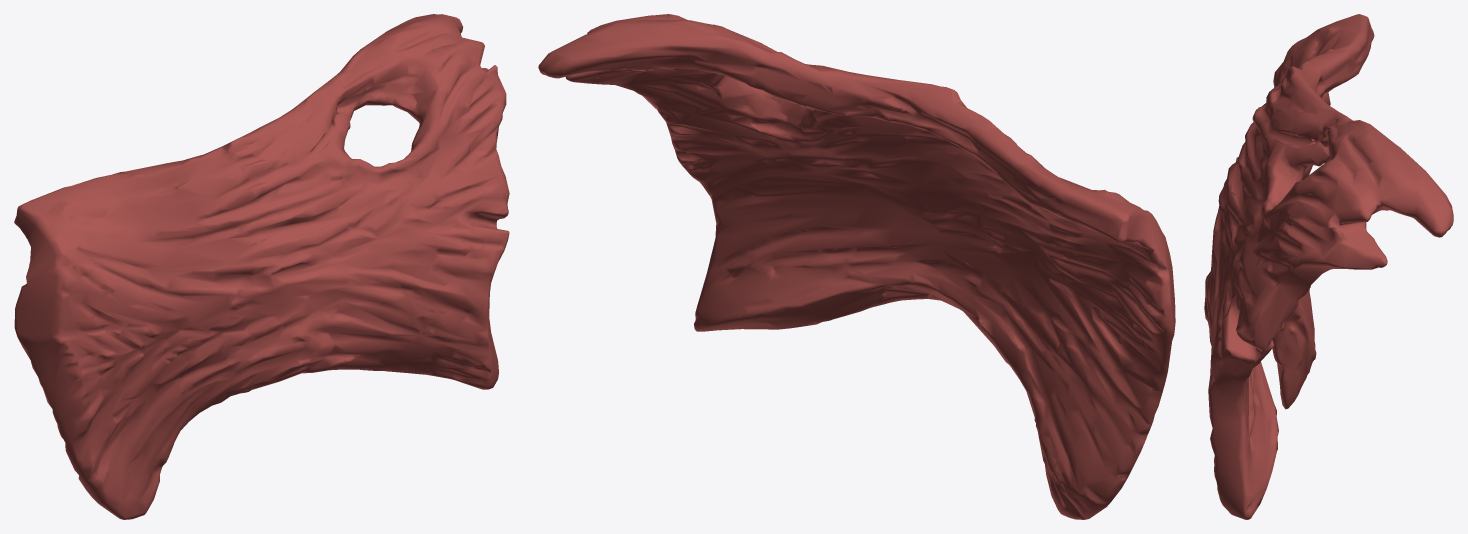
File: FMA40121.glb
3 renders of one model, left to right at view 1: azimuth 30°, elevation 25°; view 2: azimuth 150°, elevation 25°; view 3: azimuth 270°, elevation 25°, orthographic. The views are drawn at different scales.
Visible parts, largest first — view 1: FMA40121; view 2: FMA40121; view 3: FMA40121.
Part boxes in pixels (left/top/right/bottom): FMA40121: left=14, top=14, right=509, bottom=519; FMA40121: left=538, top=14, right=1175, bottom=519; FMA40121: left=1204, top=14, right=1453, bottom=519.
Size of the model in its own units: 0.0369 by 0.0272 by 0.0141.
